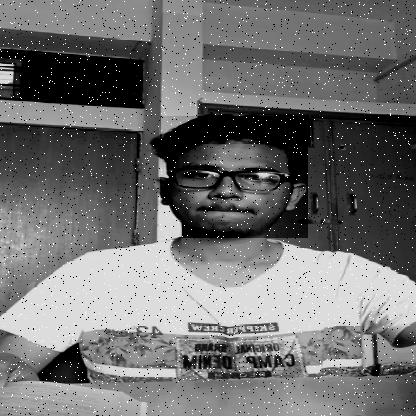Normal: (160, 116, 308, 238)
